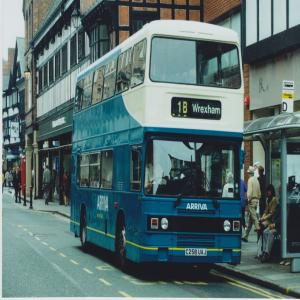Vehicle-registration-plate: (186, 250, 209, 258)
